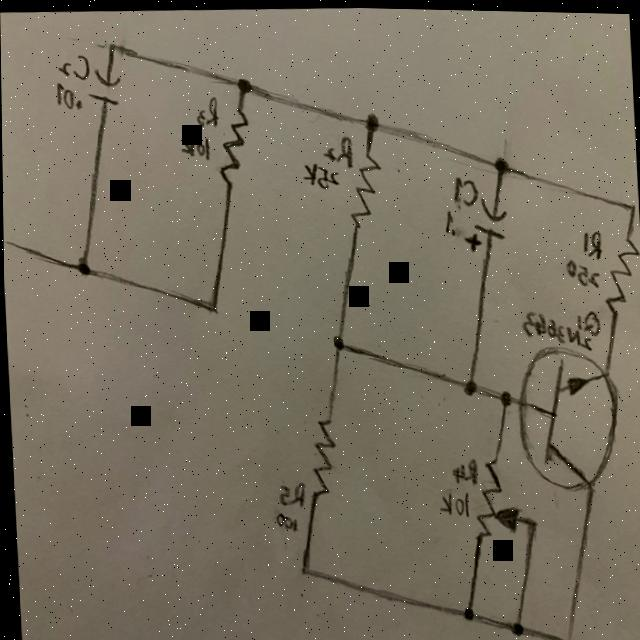capacitor: (460, 191, 508, 250), (87, 67, 121, 104)
junction: (485, 142, 514, 175), (68, 248, 95, 283), (499, 609, 528, 640), (356, 103, 383, 135), (199, 288, 222, 322), (291, 550, 314, 583), (453, 596, 478, 624), (231, 67, 256, 93), (457, 370, 480, 397), (326, 326, 349, 353), (100, 30, 120, 58), (543, 622, 574, 640), (617, 191, 638, 216), (494, 382, 515, 405), (521, 509, 541, 533)
resistor: (467, 453, 519, 541), (601, 231, 640, 313), (349, 152, 389, 229), (217, 104, 253, 187), (306, 411, 338, 495)
terminal: (3, 227, 27, 257)
text: (519, 305, 590, 349), (300, 160, 338, 192), (321, 130, 353, 166), (562, 255, 599, 285), (50, 79, 81, 114), (56, 48, 89, 80), (447, 171, 479, 203), (434, 486, 469, 514), (273, 475, 305, 505), (447, 452, 479, 481), (177, 131, 210, 159), (577, 223, 603, 256), (194, 92, 219, 125), (575, 305, 600, 333), (270, 508, 297, 530), (438, 206, 459, 233)
transistor: (512, 341, 631, 487)
